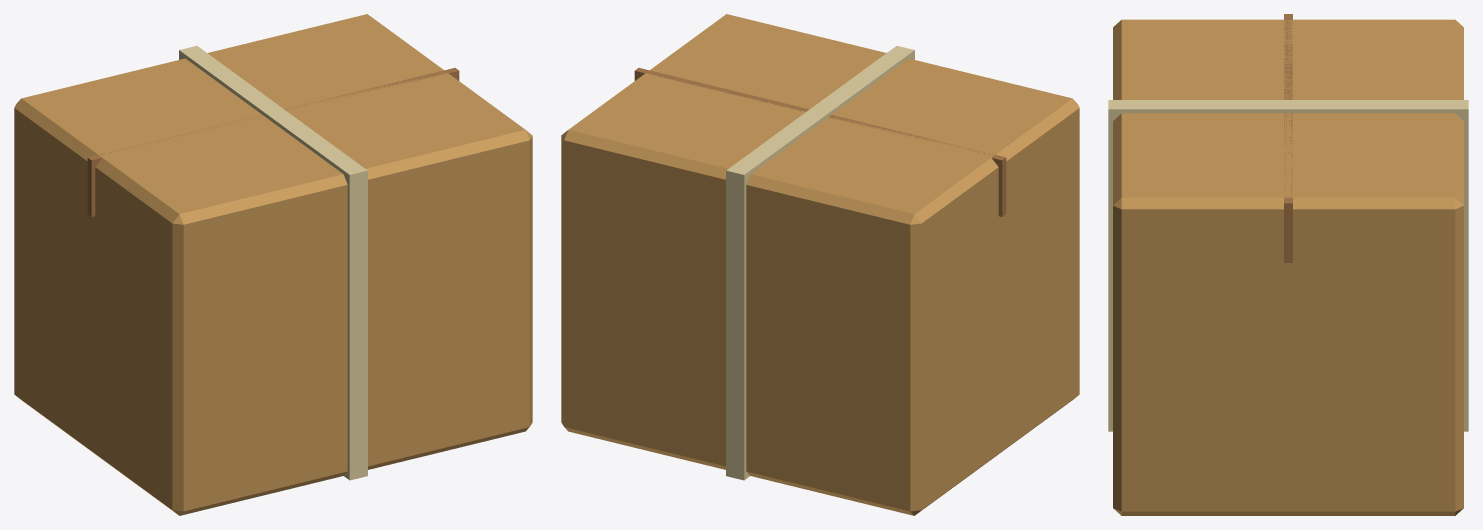
Rendered from small_box.glb.
The picture shows the model from 3 angles, left to right: view 1: azimuth 30°, elevation 25°; view 2: azimuth 150°, elevation 25°; view 3: azimuth 270°, elevation 25°; orthographic projection. The views are drawn at different scales.
Parts seen in each view (by area): view 1: small_box; view 2: small_box; view 3: small_box.
Part boxes in pixels (x1,y1,x2,y2): small_box: (14, 14, 532, 515); small_box: (561, 14, 1079, 515); small_box: (1108, 14, 1468, 515).
Bounding box in the file's own units: 0.204 × 0.162 × 0.164.
